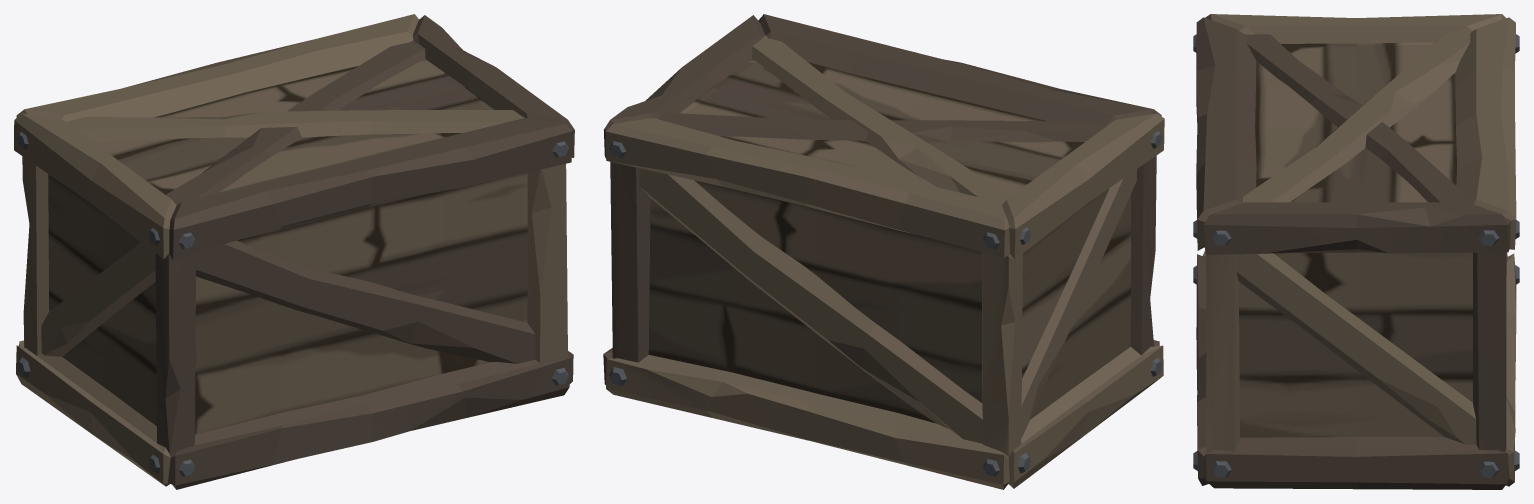
Rendered from SM_Prop_Crate_07.fbx.
The picture shows the model from 3 angles, left to right: view 1: azimuth 30°, elevation 25°; view 2: azimuth 150°, elevation 25°; view 3: azimuth 270°, elevation 25°; orthographic projection.
Visible parts, largest first — view 1: SM_Prop_Crate_07; view 2: SM_Prop_Crate_07; view 3: SM_Prop_Crate_07.
Part boxes in pixels (x1,y1,x2,y2): SM_Prop_Crate_07: (14,14,574,489); SM_Prop_Crate_07: (603,14,1164,489); SM_Prop_Crate_07: (1193,14,1519,489).
Size of the model in its own units: 105 by 65.22 by 70.01.
